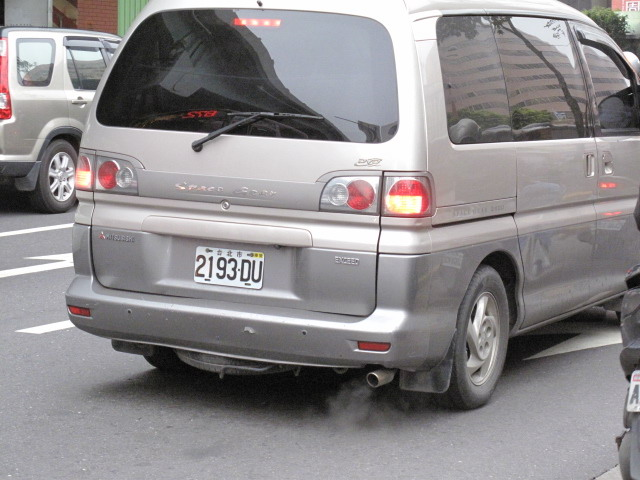plate: (190, 242, 266, 291)
